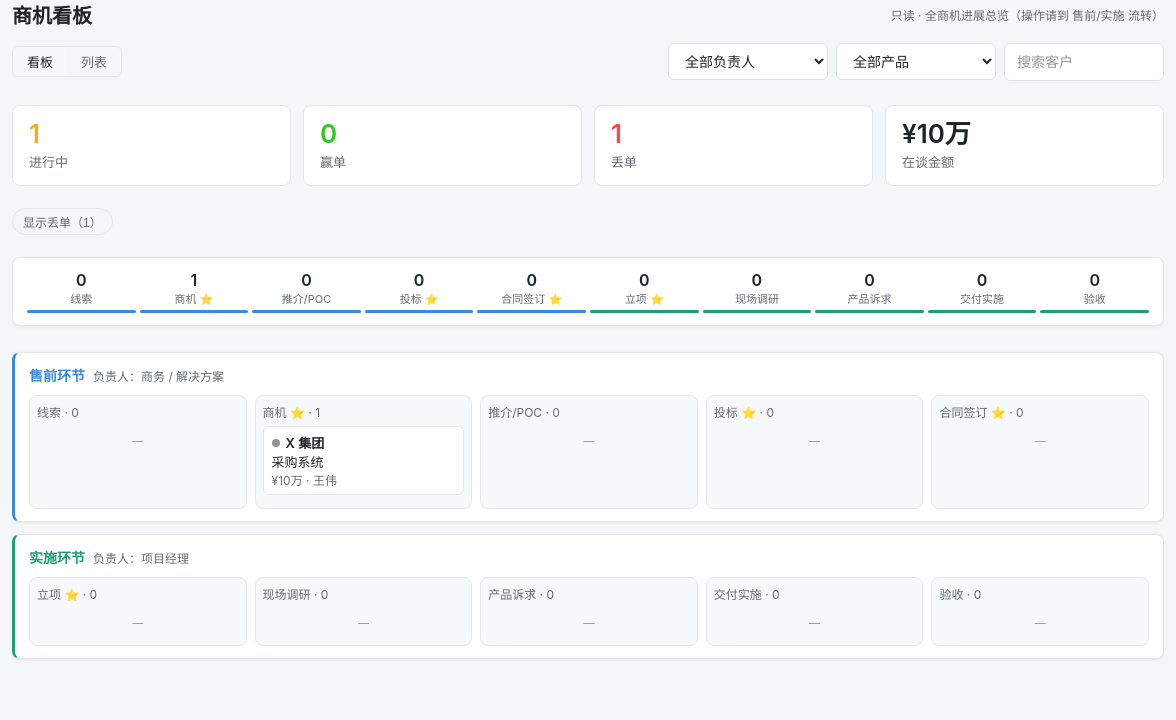
Test: OpportunityBoard (read-only) › toggles LOST visibility (TC-OPPB-06)
Expected: the button with test id "opp-card-7" is shown, [263,426,464,495]
What coordinates should you click on to do the following:
click the button with test id "opp-tile-lost"
I would click on:
 (62, 222)
Its box is [12,208,113,235].
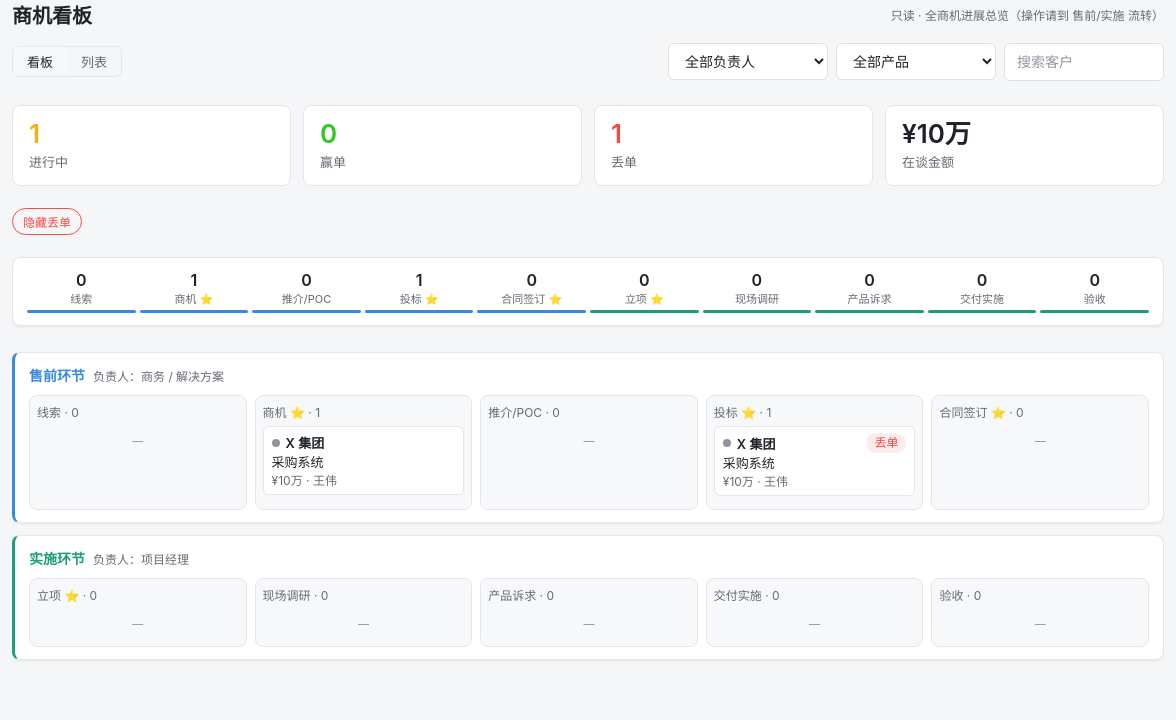
Expected: the button with test id "opp-card-8" is shown, [714,426,915,496]
Expected: the text with test id "opp-status-8" reads "丢单", [874,435,898,450]
